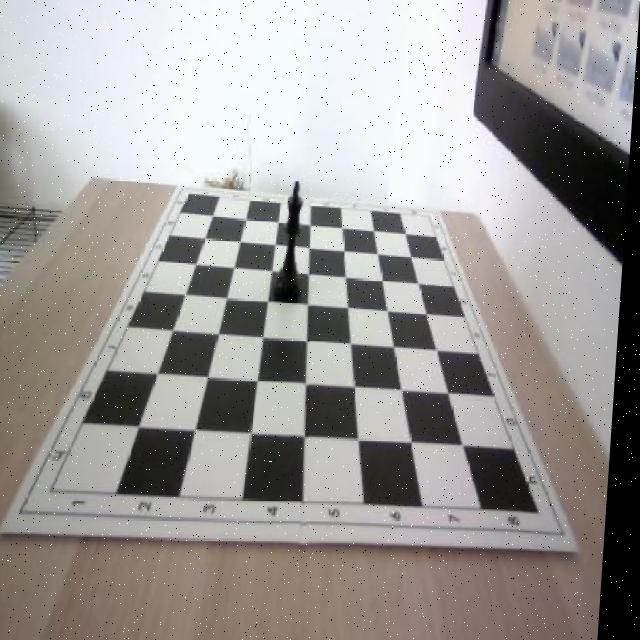black-bishop: (278, 180, 310, 302)
